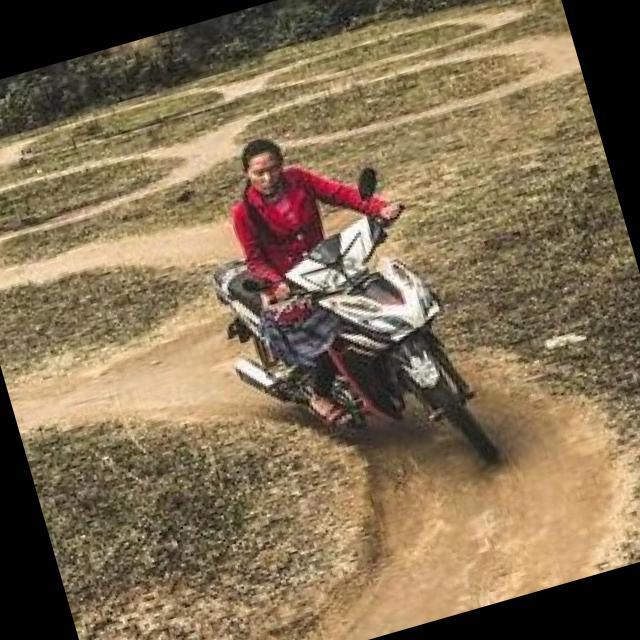without helmet: (229, 132, 298, 208)
